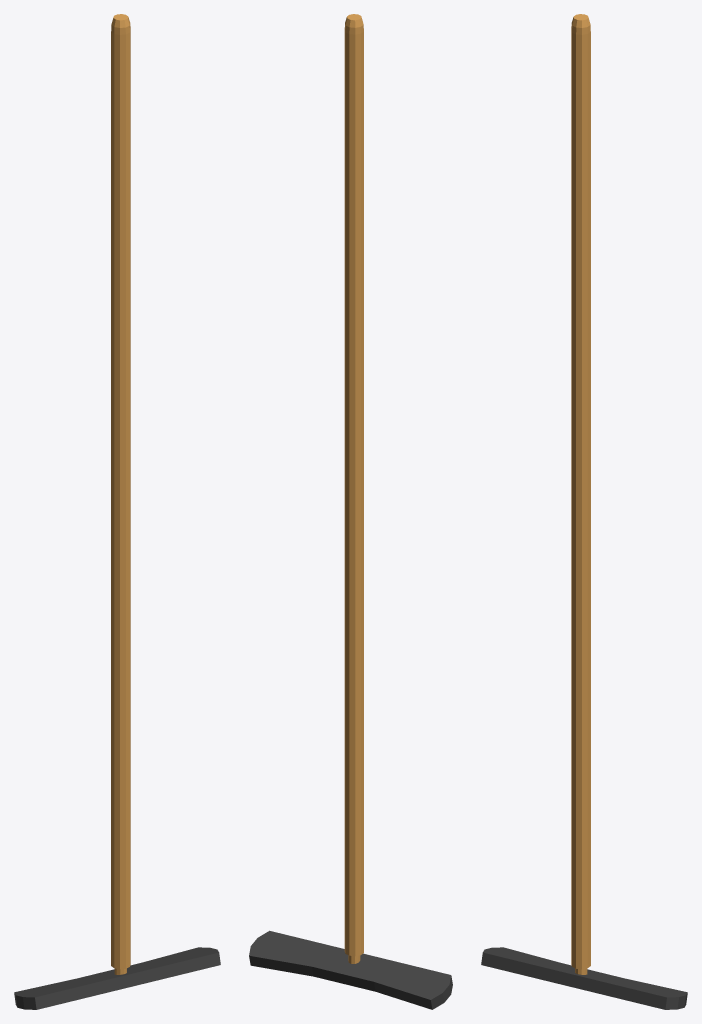
The model's file is Asphalt_Shovel.fbx.
The picture shows the model from 3 angles, left to right: view 1: azimuth 30°, elevation 25°; view 2: azimuth 150°, elevation 25°; view 3: azimuth 330°, elevation 25°; orthographic projection.
Visible parts, largest first — view 1: Asphalt_Shovel; view 2: Asphalt_Shovel; view 3: Asphalt_Shovel.
Part boxes in pixels (x1=…): Asphalt_Shovel: x1=14, y1=14, x2=220, y2=1009; Asphalt_Shovel: x1=249, y1=14, x2=452, y2=1009; Asphalt_Shovel: x1=481, y1=14, x2=687, y2=1009.
Size of the model in its own units: 37.85 by 181 by 7.58.
